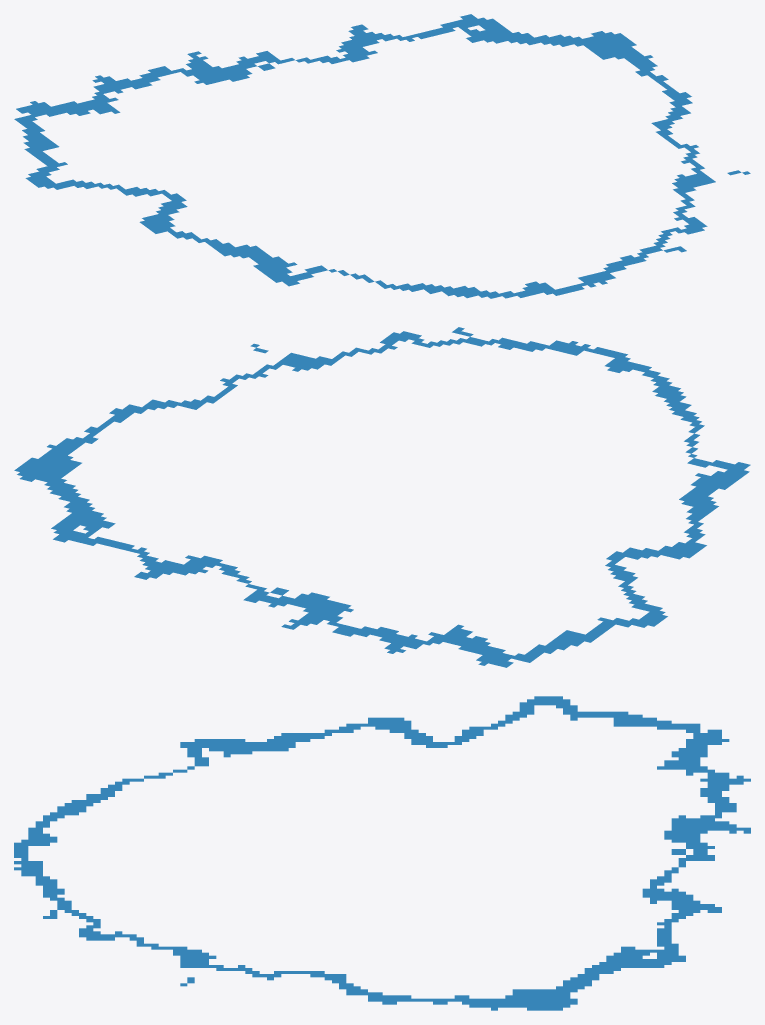
The model's file is Isl-start5-PlaceForWaterObjects.fbx.
The picture shows the model from 3 angles, top to bottom: view 1: azimuth 30°, elevation 25°; view 2: azimuth 150°, elevation 25°; view 3: azimuth 270°, elevation 25°; orthographic projection. The views are drawn at different scales.
Parts seen in each view (by area): view 1: Isl-start5-PlaceForWaterObjects; view 2: Isl-start5-PlaceForWaterObjects; view 3: Isl-start5-PlaceForWaterObjects.
Boxes of the visible parts, <box> form: Isl-start5-PlaceForWaterObjects: <box>14,14,750,298</box>; Isl-start5-PlaceForWaterObjects: <box>14,327,750,667</box>; Isl-start5-PlaceForWaterObjects: <box>14,696,750,1010</box>.
Bounding box in the file's own units: 103 × 0 × 102.
